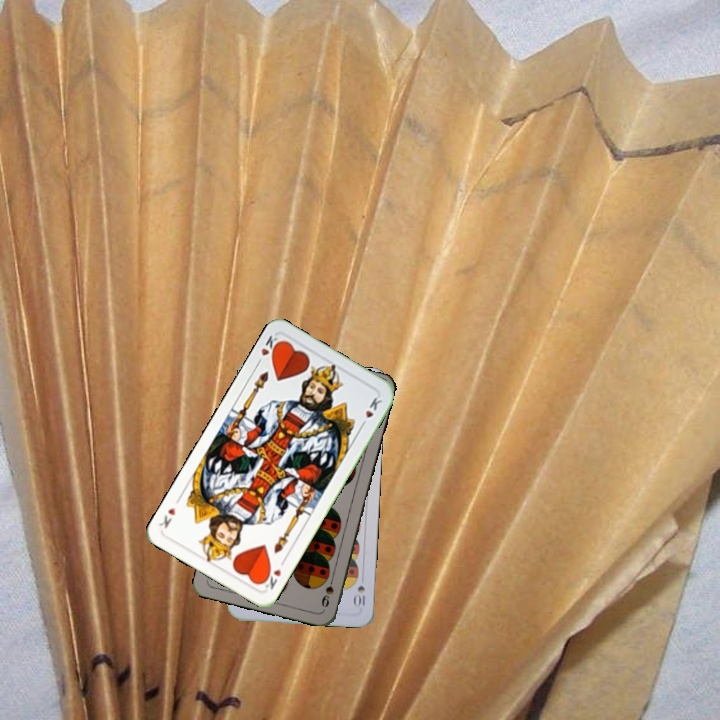HK: (252, 331, 284, 368), (257, 555, 288, 592)
S10: (350, 582, 368, 609)
S9: (317, 571, 337, 610)
